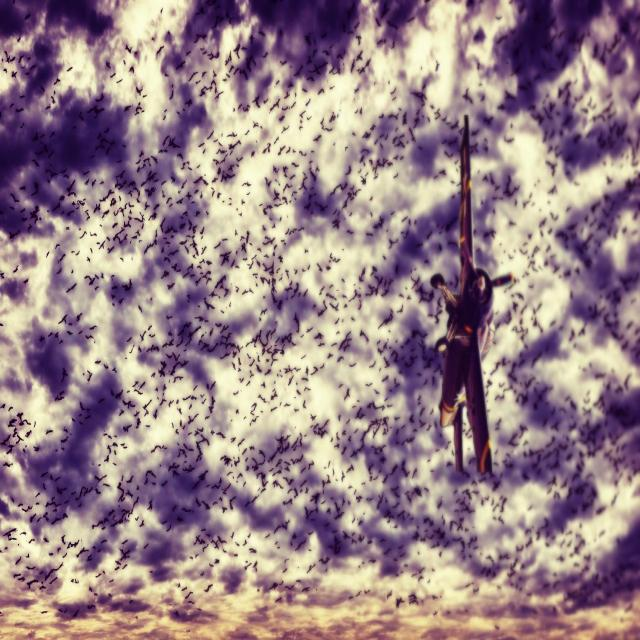airplane: (430, 112, 513, 476)
